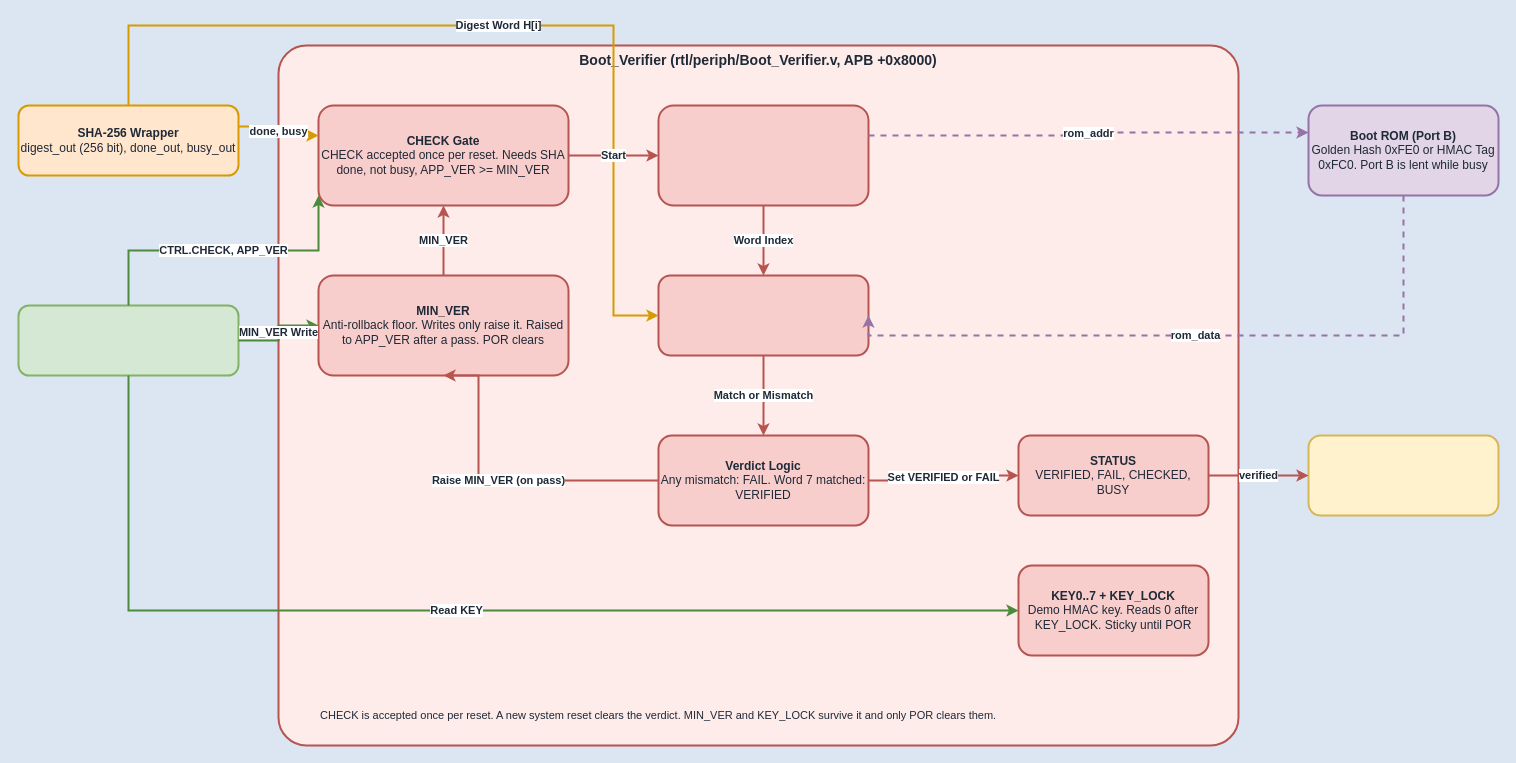
Some shapes in this 1516 by 763 pixel diagram are drawn without their labels. The centre of each missing label's shape, as x and y in pixels:
APB Master (Master Core) Writes CTRL, APP_VER, MIN_VER. Reads STATUS, KEY: the point at 128,340
CHECK FSM IDLE, FETCH (8 cycles). rom_addr += 4, busy = 1: the point at 763,155
SYSCSR VERIFY_GATE input: verified: the point at 1403,475
Word Comparator ROM word i equals digest word H[i]: the point at 763,315
